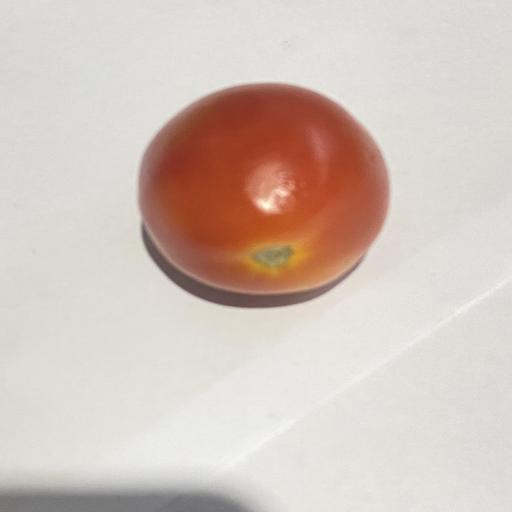ripe: (139, 83, 389, 295)
